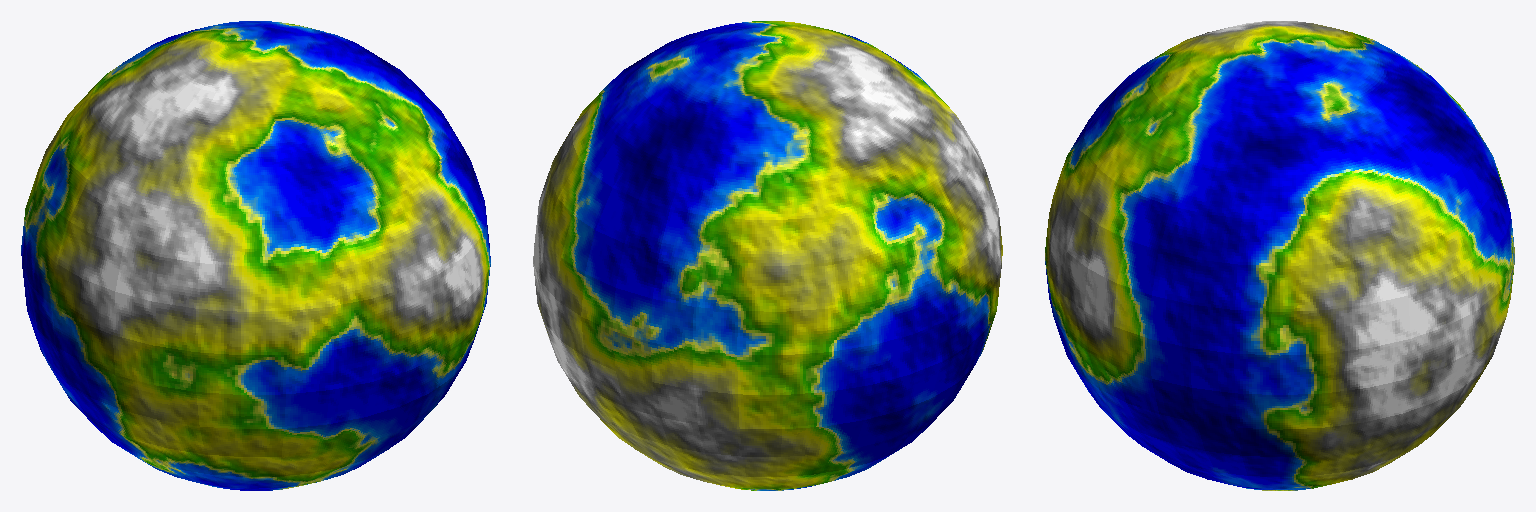
3 renders of one model, left to right at view 1: azimuth 30°, elevation 25°; view 2: azimuth 150°, elevation 25°; view 3: azimuth 270°, elevation 25°, orthographic.
Visible parts, largest first — view 1: unnamed_object1; view 2: unnamed_object1; view 3: unnamed_object1.
Part boxes in pixels (x1,y1,x2,y2): unnamed_object1: (21, 21, 490, 490); unnamed_object1: (533, 21, 1002, 490); unnamed_object1: (1045, 21, 1514, 490).
Bounding box in the file's own units: 2 × 2 × 2.
1 materials, 1 textured.